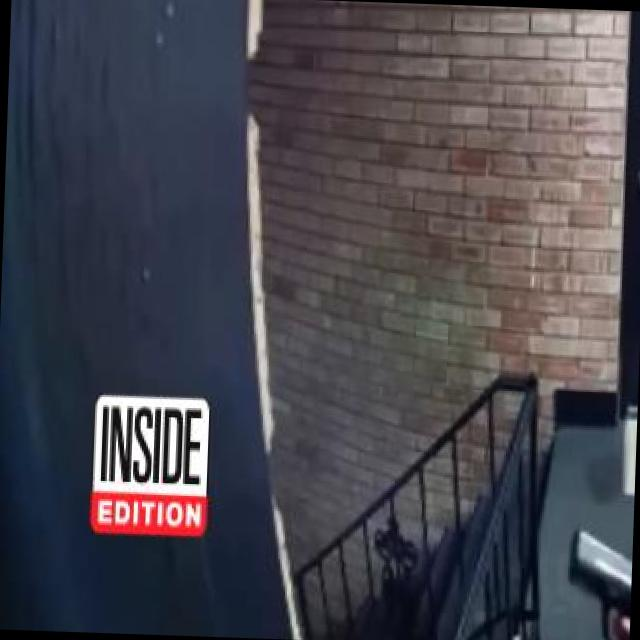Guns: (564, 515, 633, 640)
